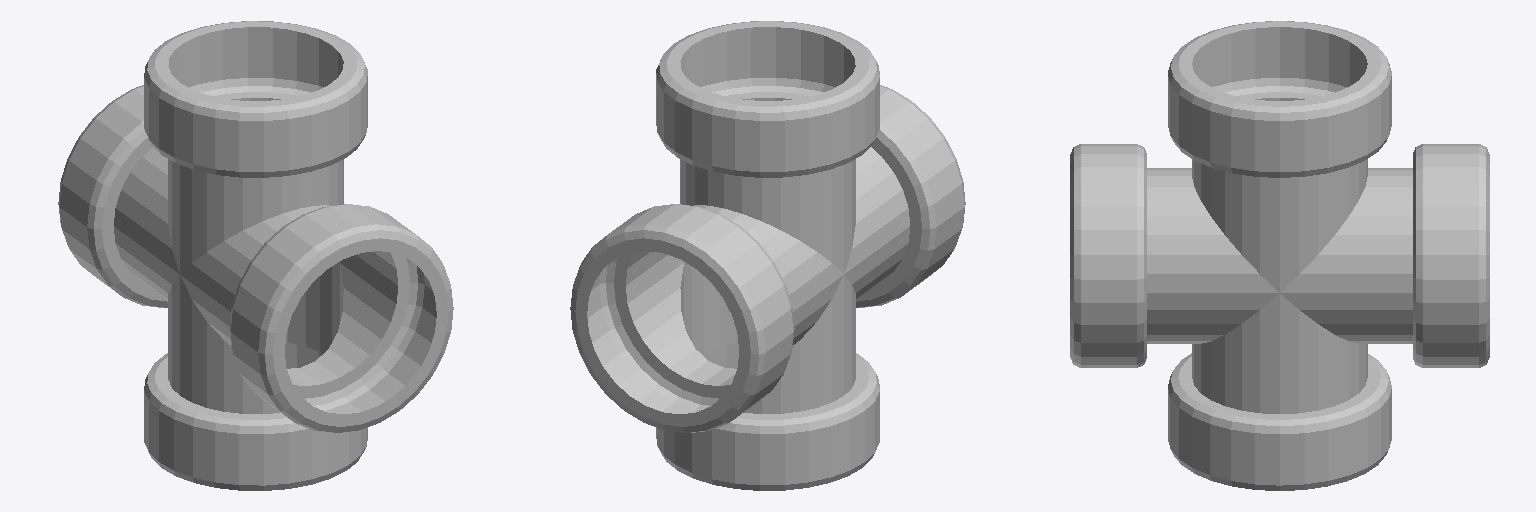
File: 4_JUNCTION_001.obj
The picture shows the model from 3 angles: view 1: azimuth 30°, elevation 25°; view 2: azimuth 150°, elevation 25°; view 3: azimuth 270°, elevation 25°; orthographic projection.
Visible parts, largest first — view 1: 4_JUNCTION.001; view 2: 4_JUNCTION.001; view 3: 4_JUNCTION.001.
Boxes of the visible parts, x1,y1,x2,y2 form: 4_JUNCTION.001: [58, 21, 453, 490]; 4_JUNCTION.001: [570, 21, 965, 490]; 4_JUNCTION.001: [1070, 21, 1489, 490].
Bounding box in the file's own units: 4.06 × 7.66 × 7.58.